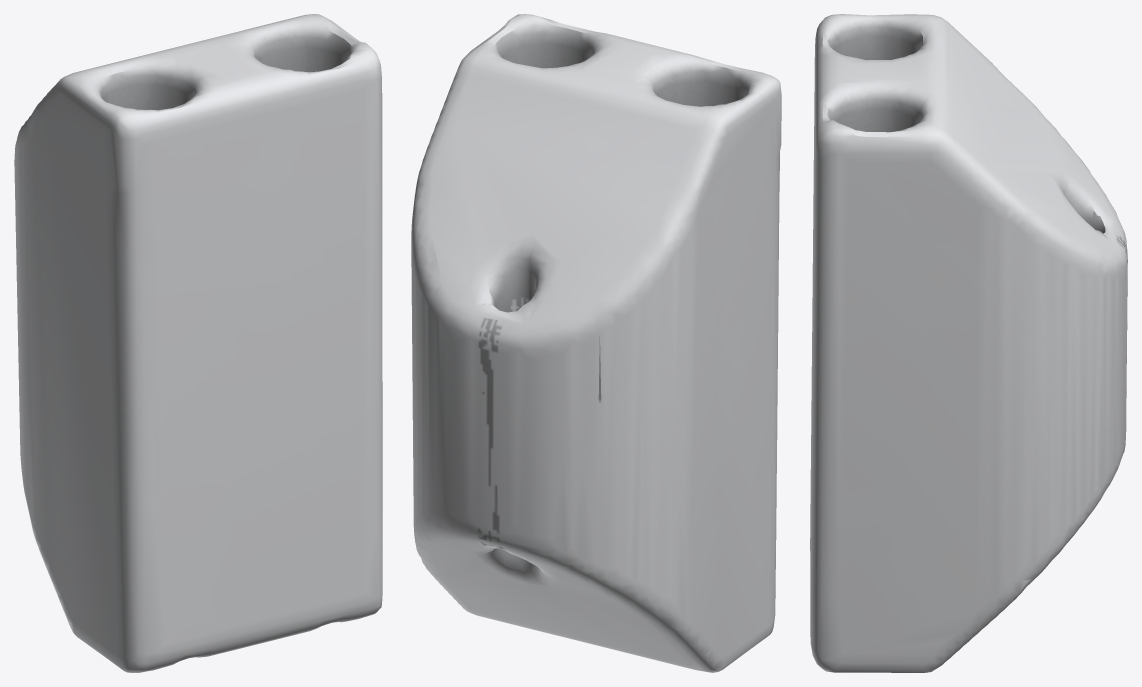
File: left_finger2_middle.glb
3 renders of one model, left to right at view 1: azimuth 30°, elevation 25°; view 2: azimuth 150°, elevation 25°; view 3: azimuth 270°, elevation 25°, orthographic. The views are drawn at different scales.
Visible parts, largest first — view 1: left_finger2_middle; view 2: left_finger2_middle; view 3: left_finger2_middle.
Part boxes in pixels (box(x1,y1,x2,y2)): left_finger2_middle: box(14, 14, 382, 672); left_finger2_middle: box(411, 14, 781, 672); left_finger2_middle: box(810, 14, 1127, 672).
Bounding box in the file's own units: 0.0118 × 0.0239 × 0.0126.
1 material, 1 textured.
